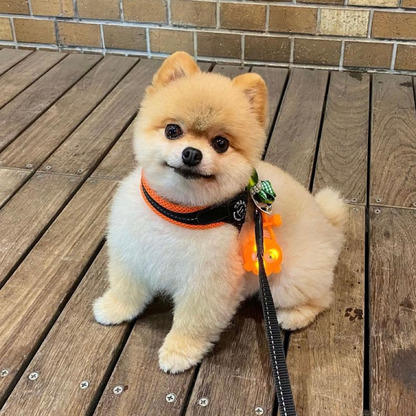Pomeranian: (94, 44, 351, 373)
